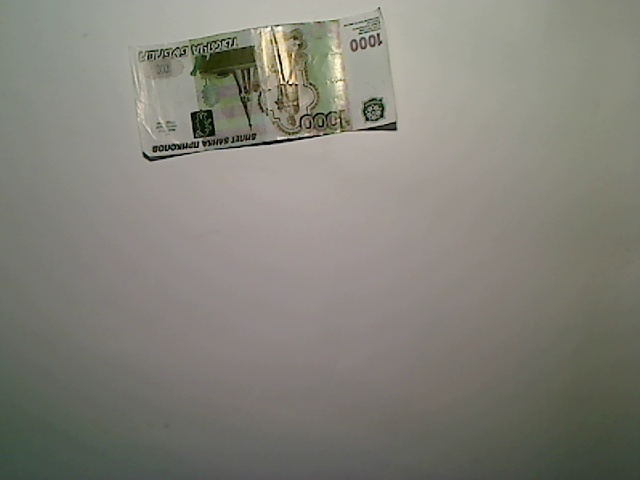banknotes: (121, 1, 404, 164)
